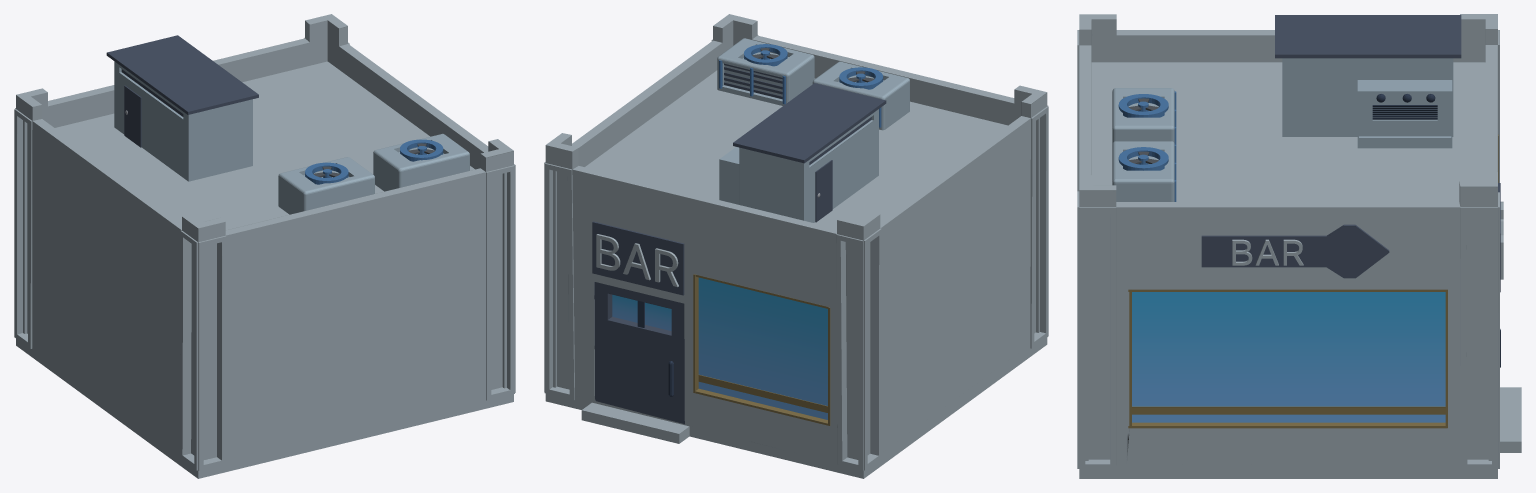
The model's file is CUPIC_BAR.gltf.
The picture shows the model from 3 angles, left to right: view 1: azimuth 30°, elevation 25°; view 2: azimuth 150°, elevation 25°; view 3: azimuth 270°, elevation 25°; orthographic projection. The views are drawn at different scales.
Visible parts, largest first — view 1: node-0; view 2: node-0; view 3: node-0.
Boxes of the visible parts, bbox=[...] form: node-0: bbox=[14, 14, 515, 478]; node-0: bbox=[544, 14, 1048, 478]; node-0: bbox=[1077, 14, 1521, 478].
Size of the model in its own units: 272 by 231 by 283.
1 material, 1 textured.
